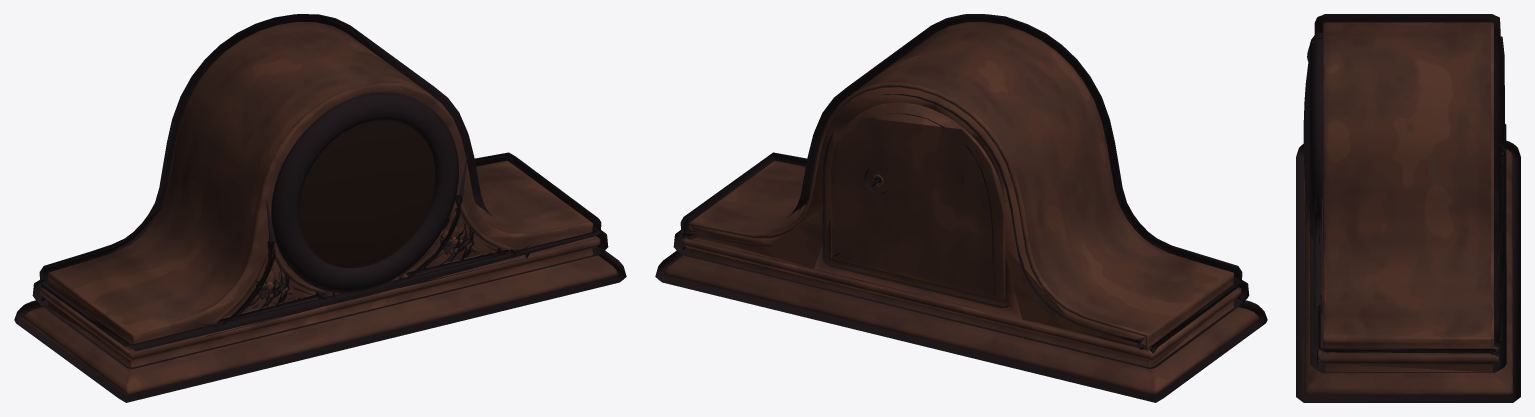
The model's file is SM_Int_MantelClock.fbx.
3 views of the same model, side by side, from view 1: azimuth 30°, elevation 25°; view 2: azimuth 150°, elevation 25°; view 3: azimuth 270°, elevation 25° (orthographic).
Parts seen in each view (by area): view 1: SM_Int_MantelClock; view 2: SM_Int_MantelClock; view 3: SM_Int_MantelClock.
Boxes of the visible parts, left/top/right/bottom form: SM_Int_MantelClock: left=14, top=14, right=626, bottom=402; SM_Int_MantelClock: left=655, top=14, right=1267, bottom=402; SM_Int_MantelClock: left=1296, top=14, right=1520, bottom=402.
Size of the model in its own units: 0.3519 by 0.1703 by 0.1356.
